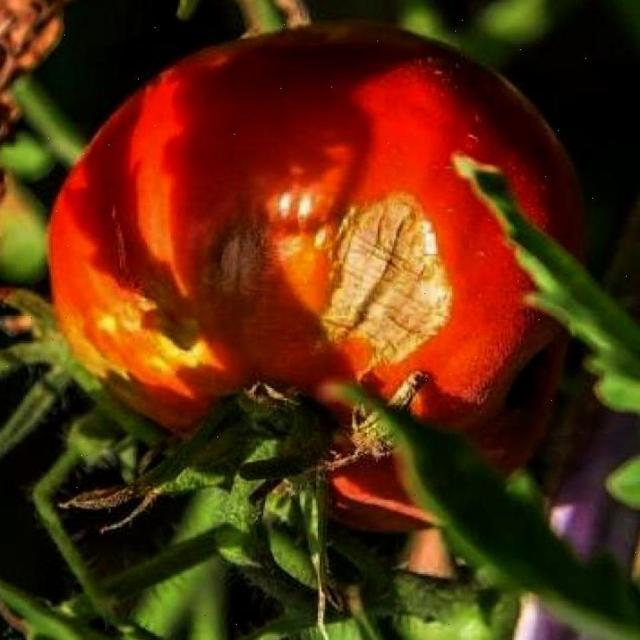Sunscald Fruit: (51, 63, 266, 226)
